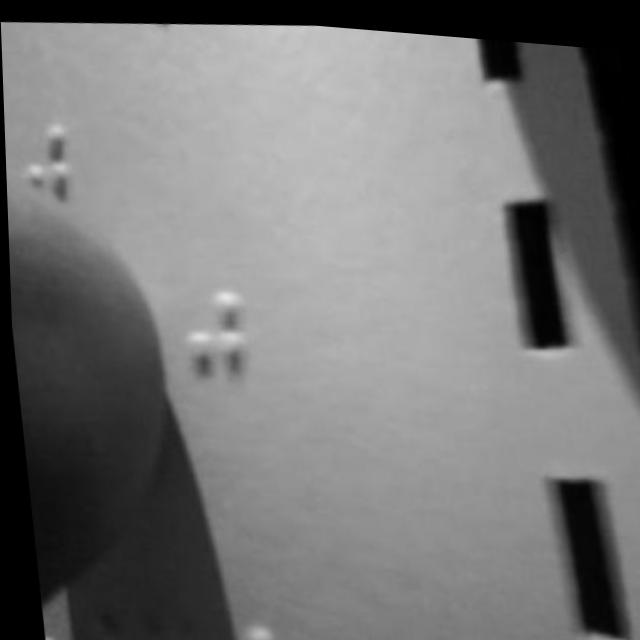braiile: (166, 275, 261, 439), (71, 17, 138, 66), (15, 17, 75, 61)
